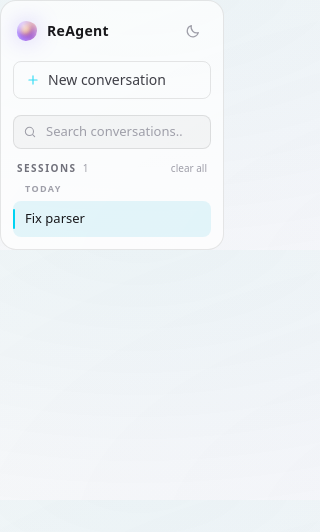
Test: Sidebar search › shows a 'no matches' message for empty results
The width and height of the screenshot is (320, 532).
Type "zzz" into the field labelled "Search conversations".
click(112, 132); type("zzz")  # box [13,115,211,148]
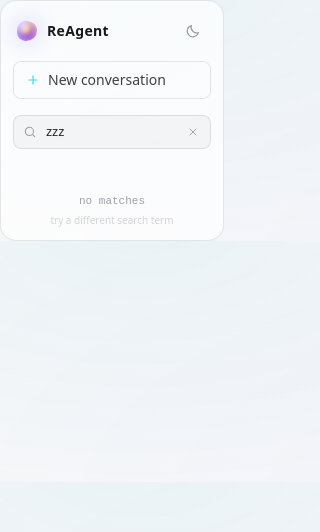
Expected: the text "no matches" is shown, [79,194,145,206]
